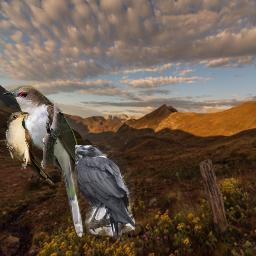Crow: (75, 145, 135, 240)
Cuckoo: (1, 85, 84, 239), (4, 111, 57, 187)
